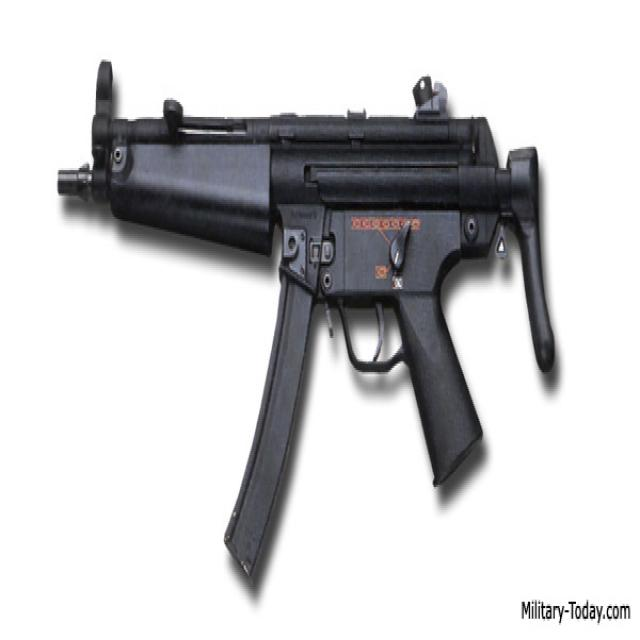SMG: (59, 62, 561, 602)
